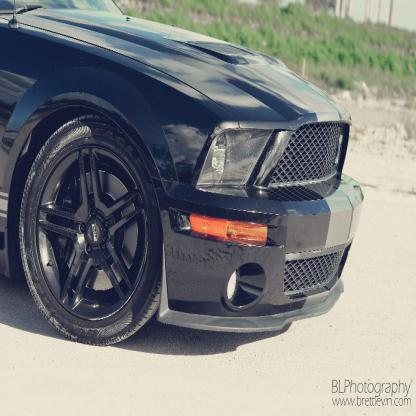car: (0, 0, 366, 348)
